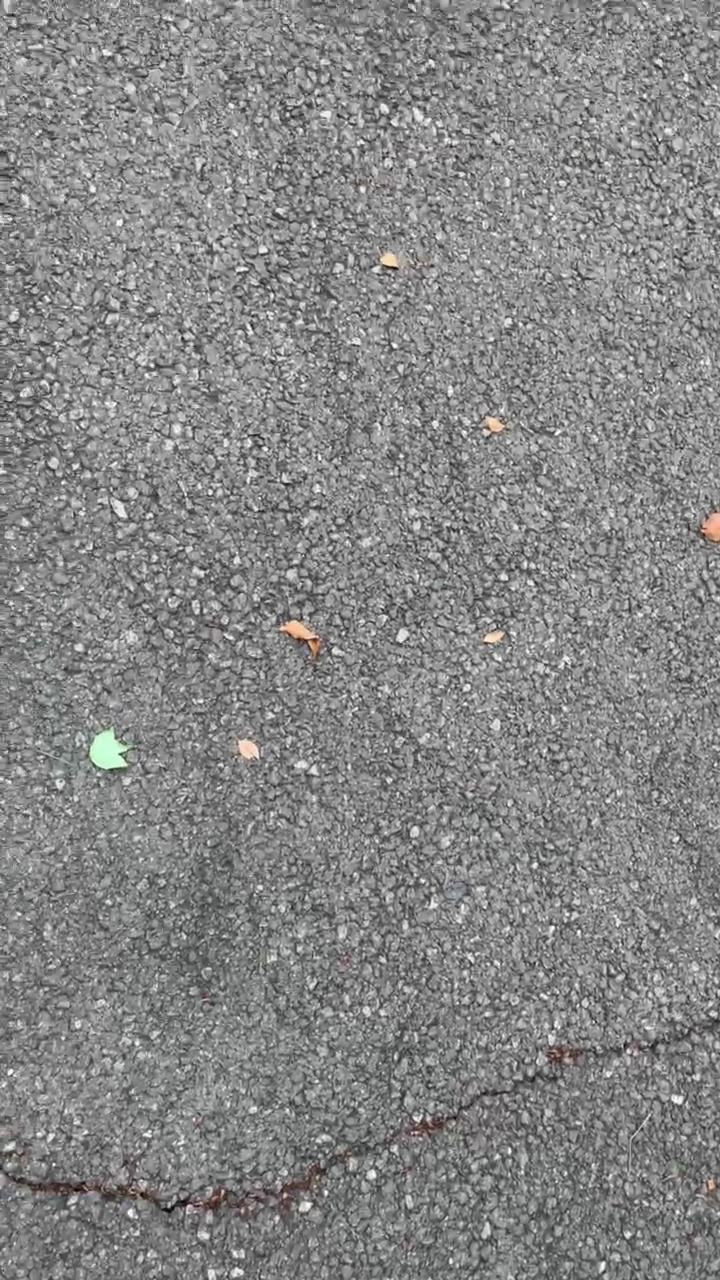Crack: (1, 1019, 720, 1212)
